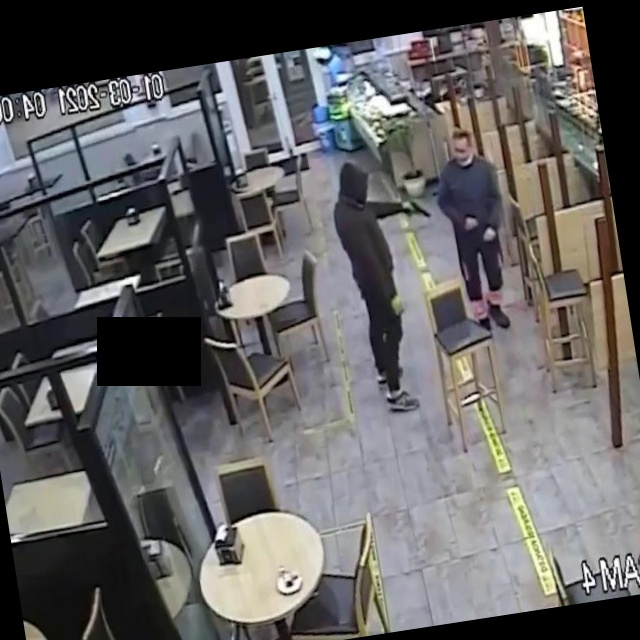gun: (393, 186, 438, 231)
